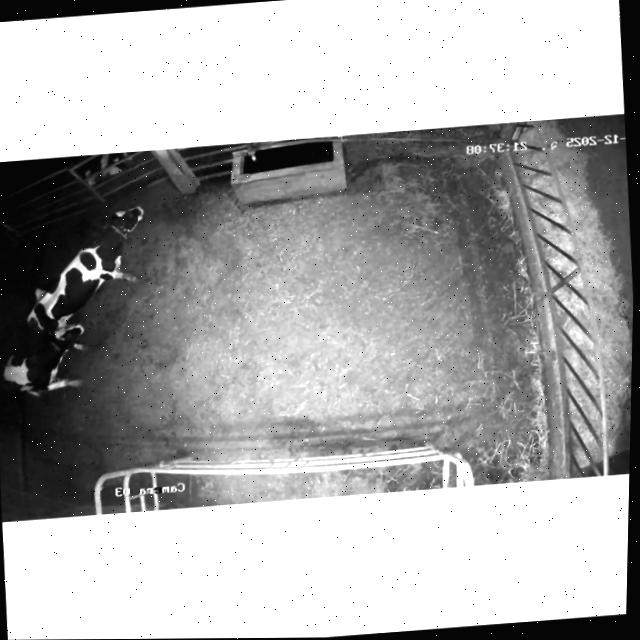stand: (26, 205, 143, 341), (3, 324, 85, 396)
